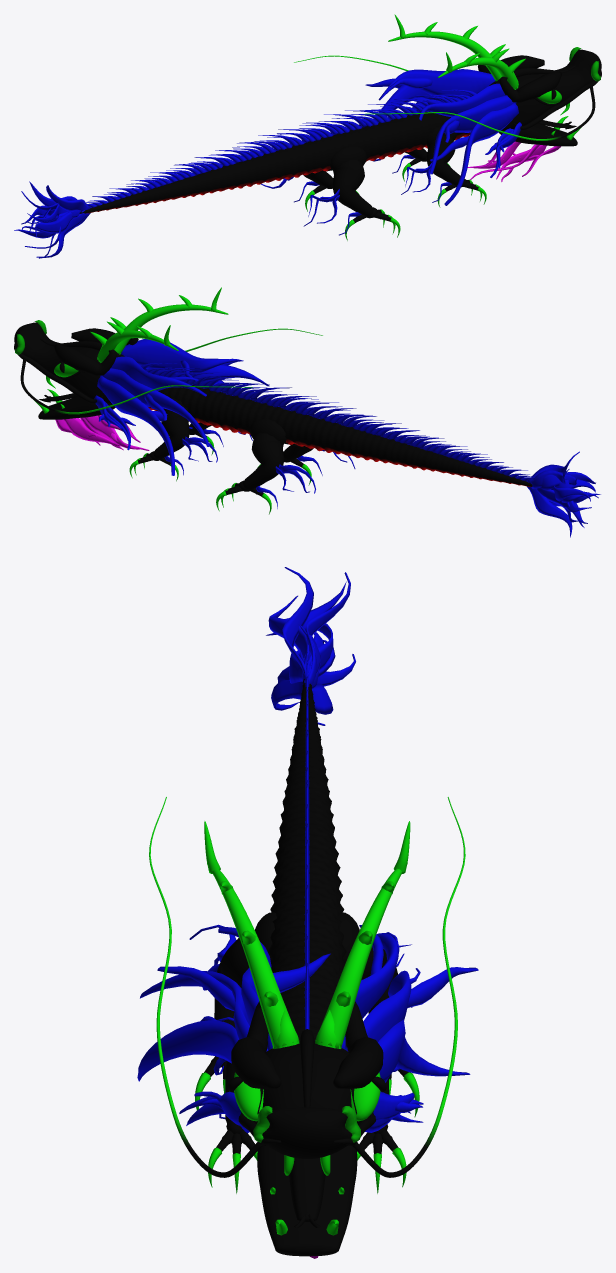
Rendered from dragon200f.glb.
3 views of the same model, one above another, from view 1: azimuth 30°, elevation 25°; view 2: azimuth 150°, elevation 25°; view 3: azimuth 270°, elevation 25° (orthographic). The views are drawn at different scales.
Parts seen in each view (by area): view 1: d200f-dragon; view 2: d200f-dragon; view 3: d200f-dragon.
Part boxes in pixels (<box>): d200f-dragon: <box>14,14,601,258</box>; d200f-dragon: <box>14,287,600,537</box>; d200f-dragon: <box>137,567,478,1258</box>.
Size of the model in its own units: 32 by 9.36 by 8.23.
